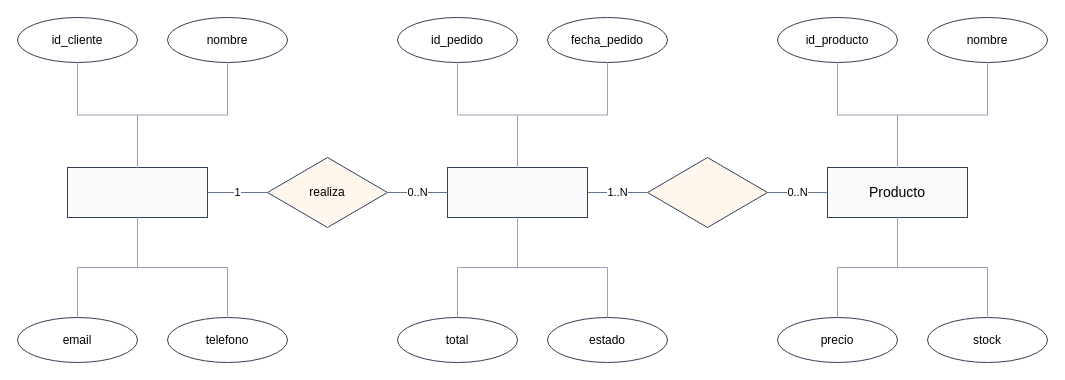
Image size: 1065x380. Some labels were removed from this diagram. Here are the shapes that lost their labels. From the top down, the centre of each, then its label:
At pixel 137 192: "Cliente".
At pixel 517 192: "Pedido".
At pixel 707 192: "contiene".
